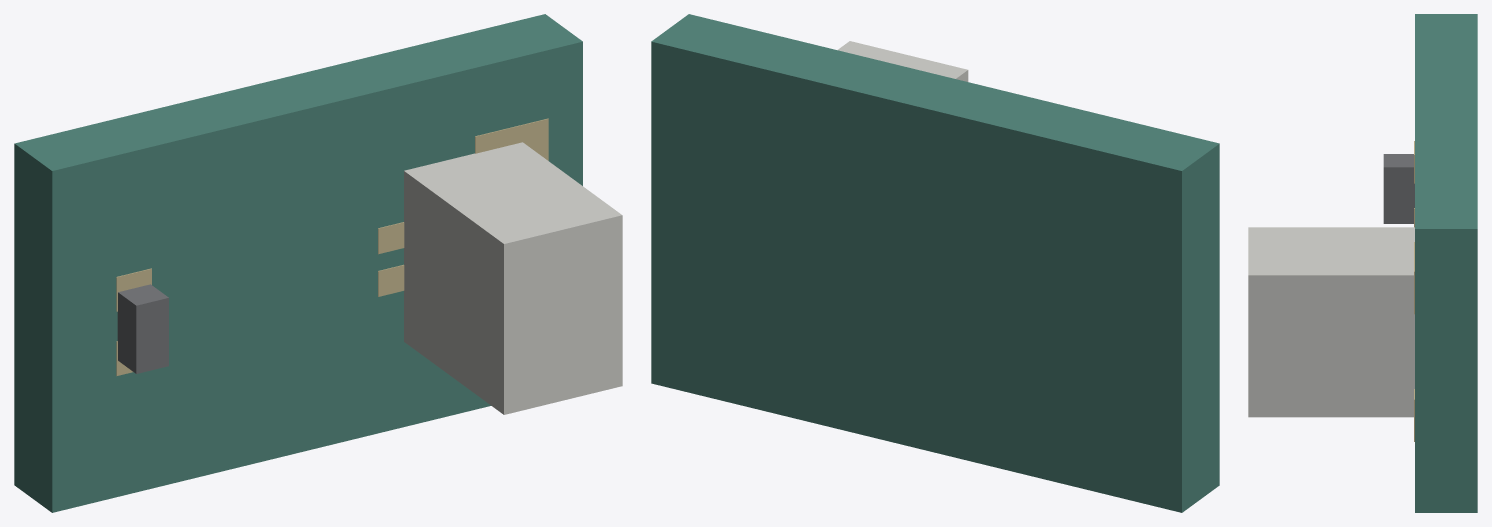
File: battery-ntc.glb
3 renders of one model, left to right at view 1: azimuth 30°, elevation 25°; view 2: azimuth 150°, elevation 25°; view 3: azimuth 270°, elevation 25°, orthographic. The views are drawn at different scales.
Parts seen in each view (by area): view 1: geometry_0; view 2: geometry_0; view 3: geometry_0.
Boxes of the visible parts, x1,y1,x2,y2 form: geometry_0: (14, 14, 622, 512); geometry_0: (651, 14, 1219, 512); geometry_0: (1248, 14, 1477, 512).
Bounding box in the file's own units: 13 × 8 × 5.85.
